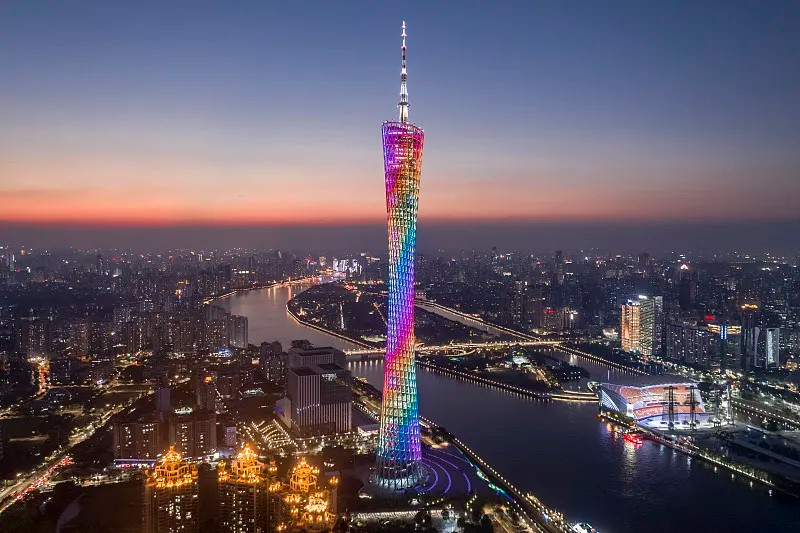Canton: (374, 18, 425, 490)
